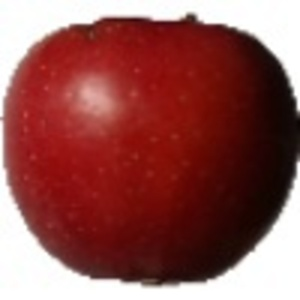maçã braeburn: (1, 7, 299, 286)
